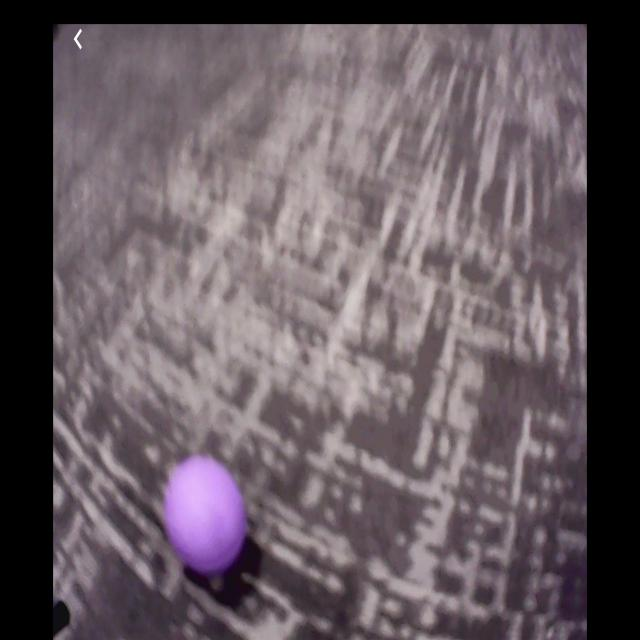ball: (166, 456, 248, 574)
